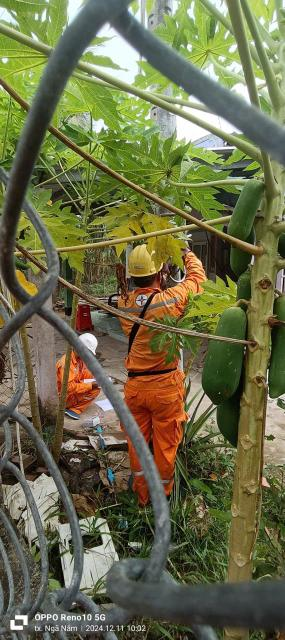harness: (124, 364, 185, 380)
helmet: (115, 240, 167, 279), (73, 333, 103, 357)
shoes: (63, 407, 84, 423)
